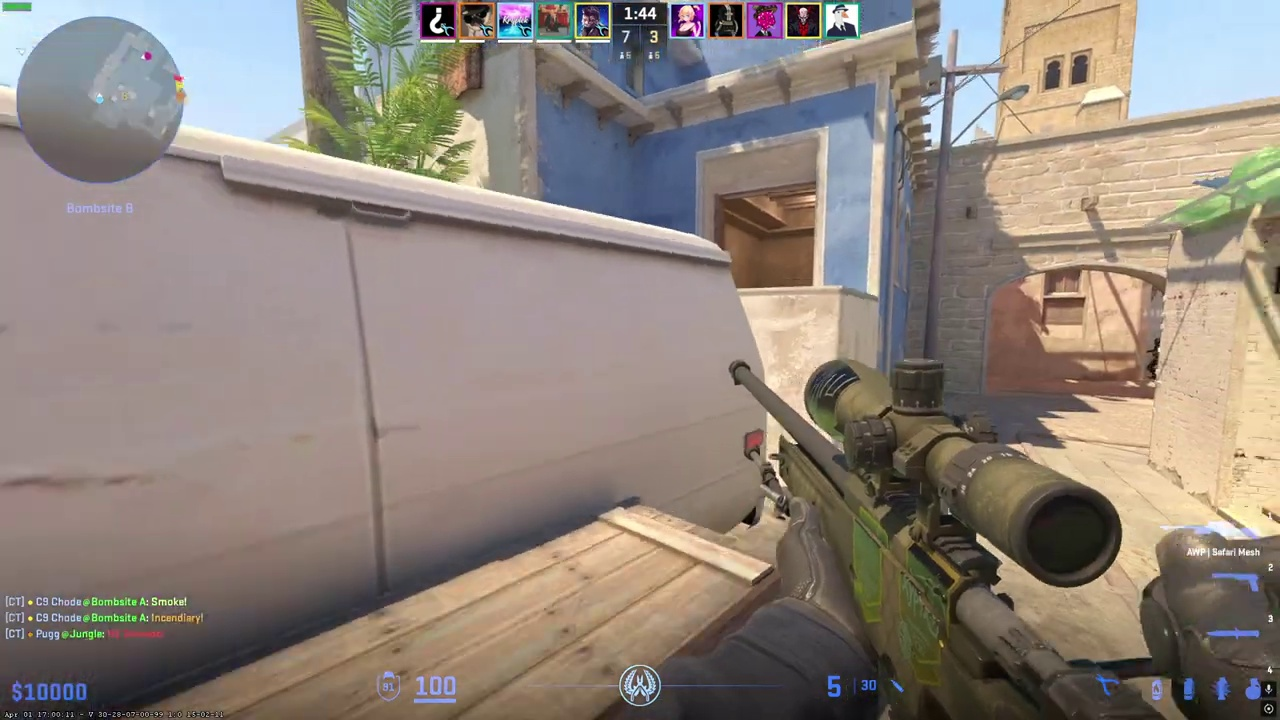CT: (1146, 338, 1162, 380)
